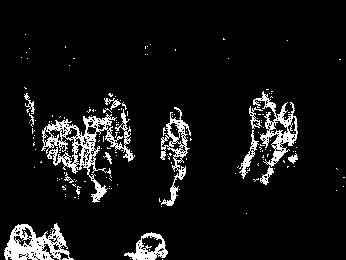person: (158, 104, 194, 207), (257, 101, 299, 184), (238, 88, 276, 179), (80, 109, 116, 203), (55, 114, 86, 199), (102, 91, 135, 164)
